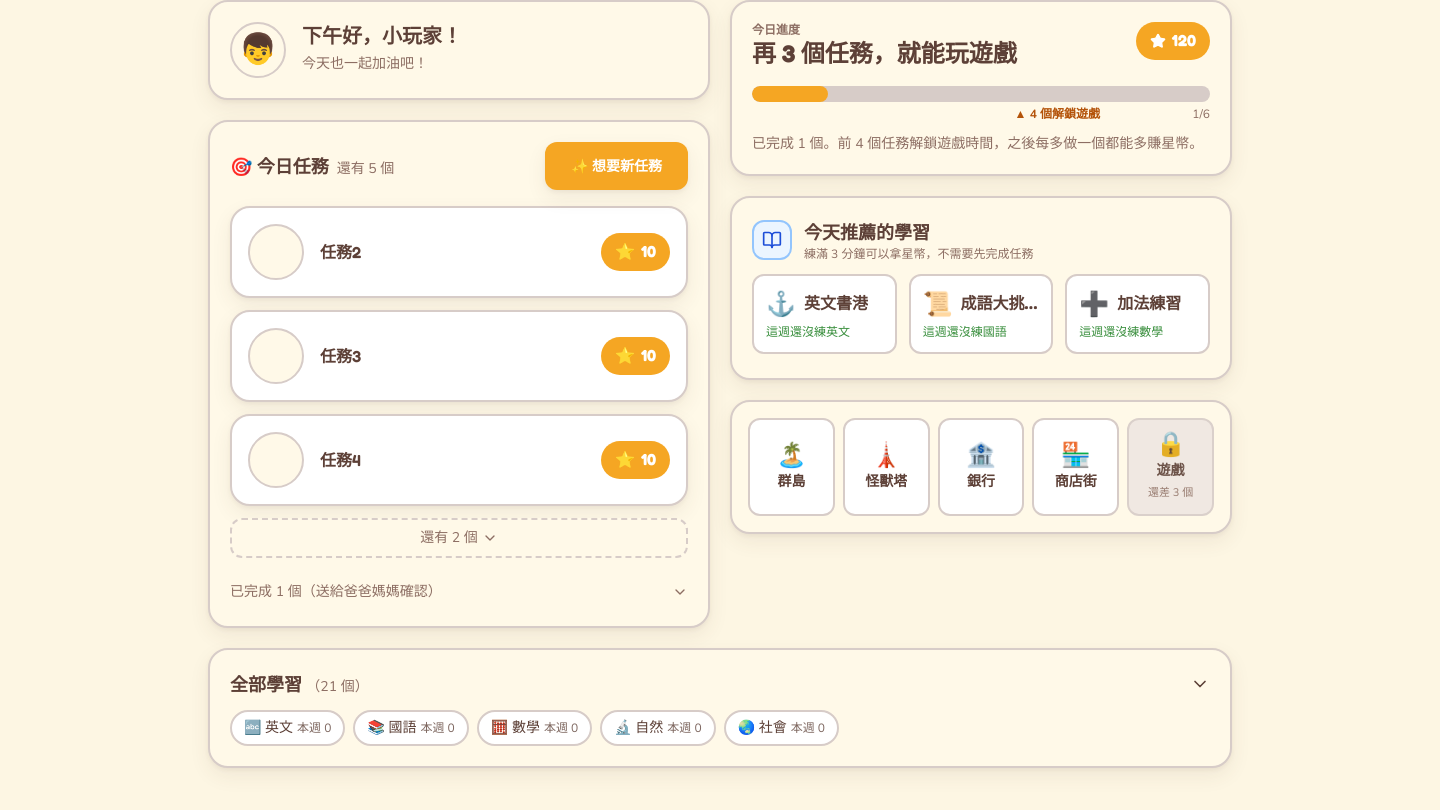
Scenario: ChildDashboard › 今日進度直接說出下一步，未完成任務只先顯示 3 個，已完成的收起來
Expected: the heading "再 3 個任務，就能玩遊戲" is shown, [752,38,1017,70]
Expected: the heading "任務2" is shown, [320,242,361,262]
Click the button "還有 2 個" at (459, 538), box [230,518,688,558]
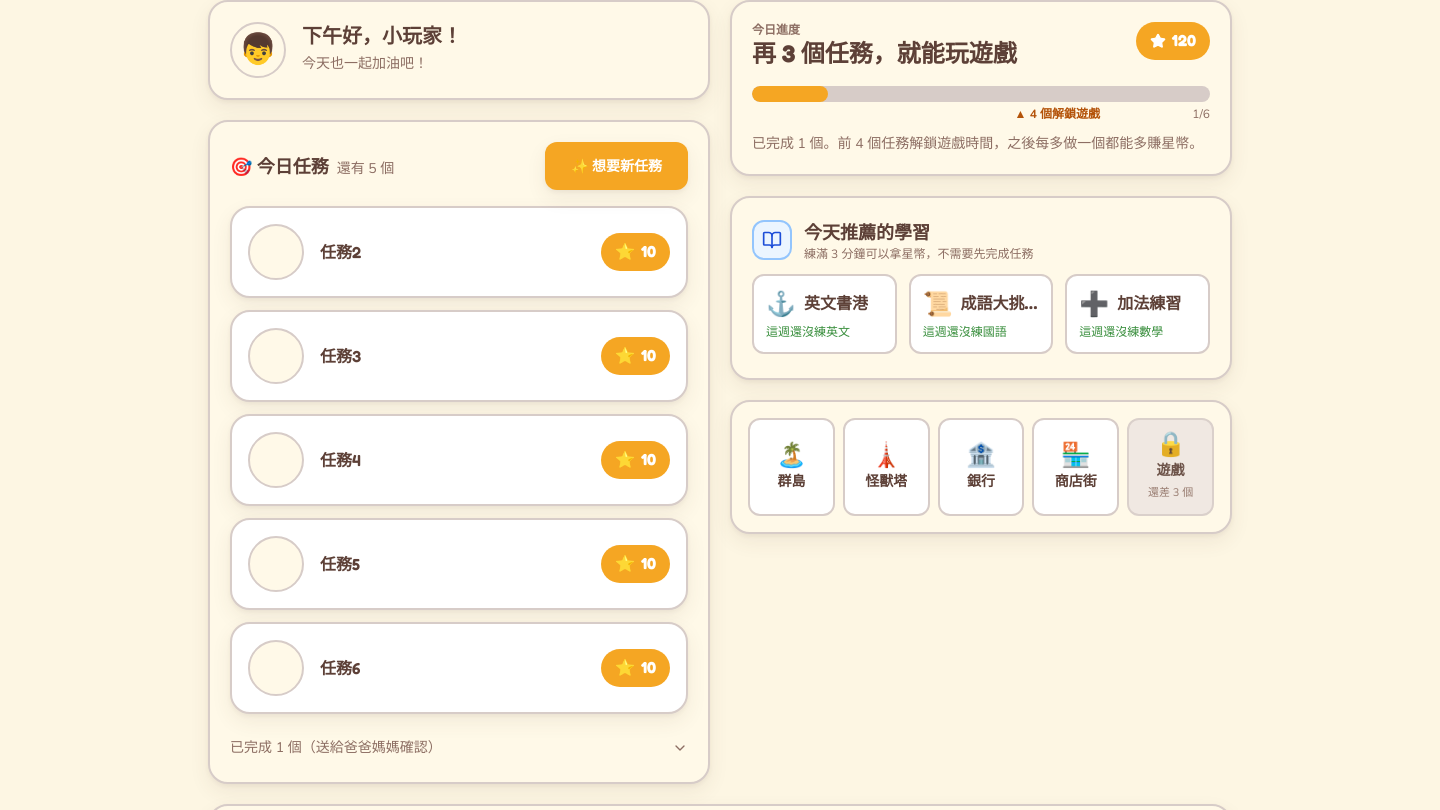
Now the heading "任務6" is shown, box [320,658,360,678]
Click the button "已完成 1 個（送給爸爸媽媽確認）" at (253, 748), box [230,734,688,762]
(page scrolled)
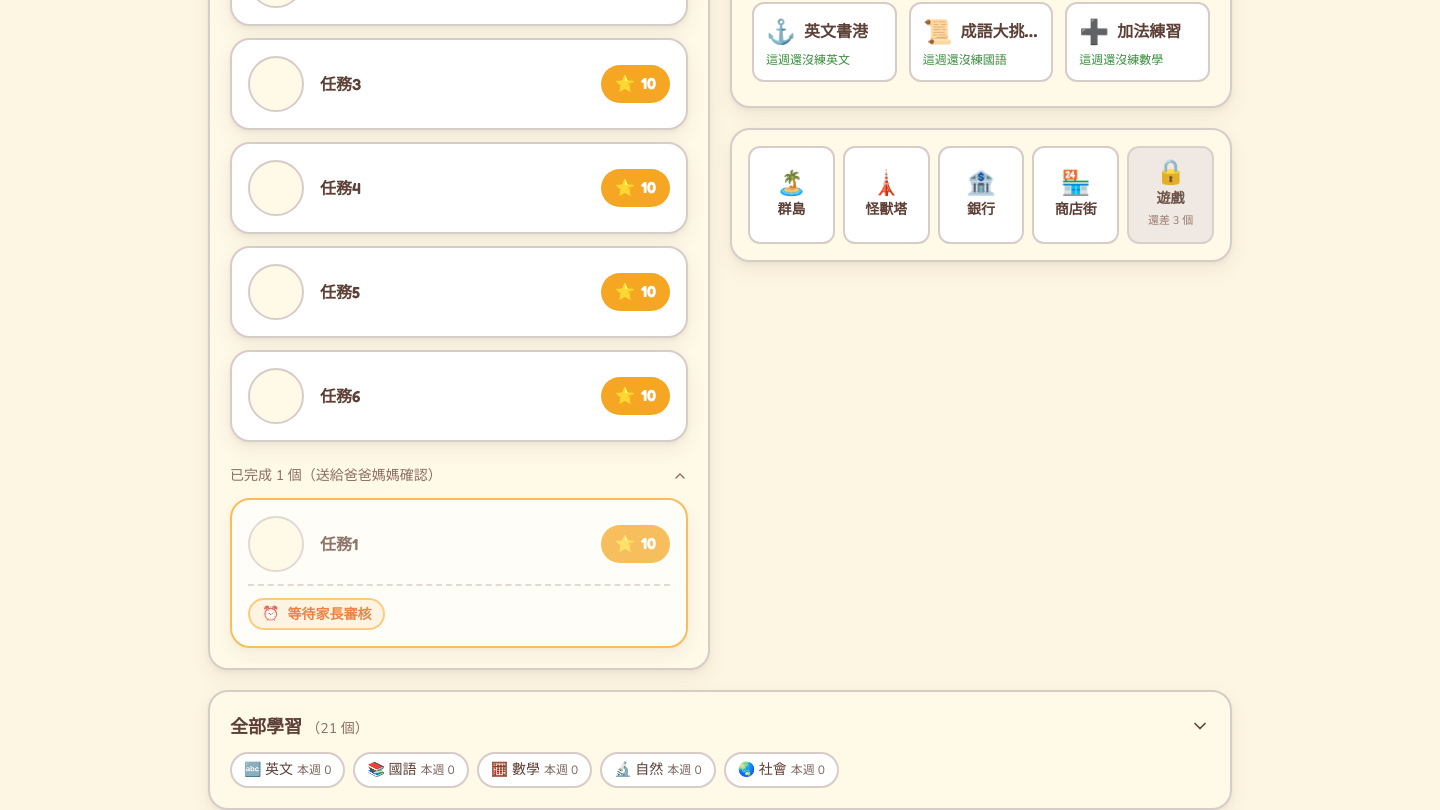
Now the heading "任務1" is shown, box [320,534,358,554]
